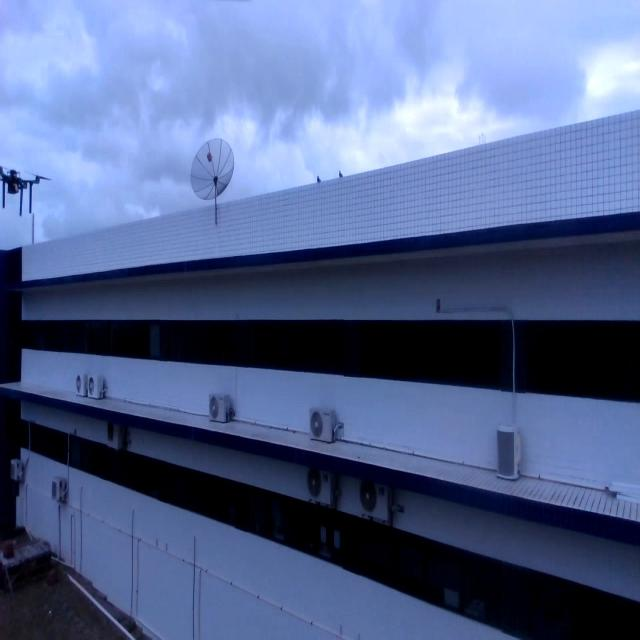-uav-: (2, 165, 58, 225)
